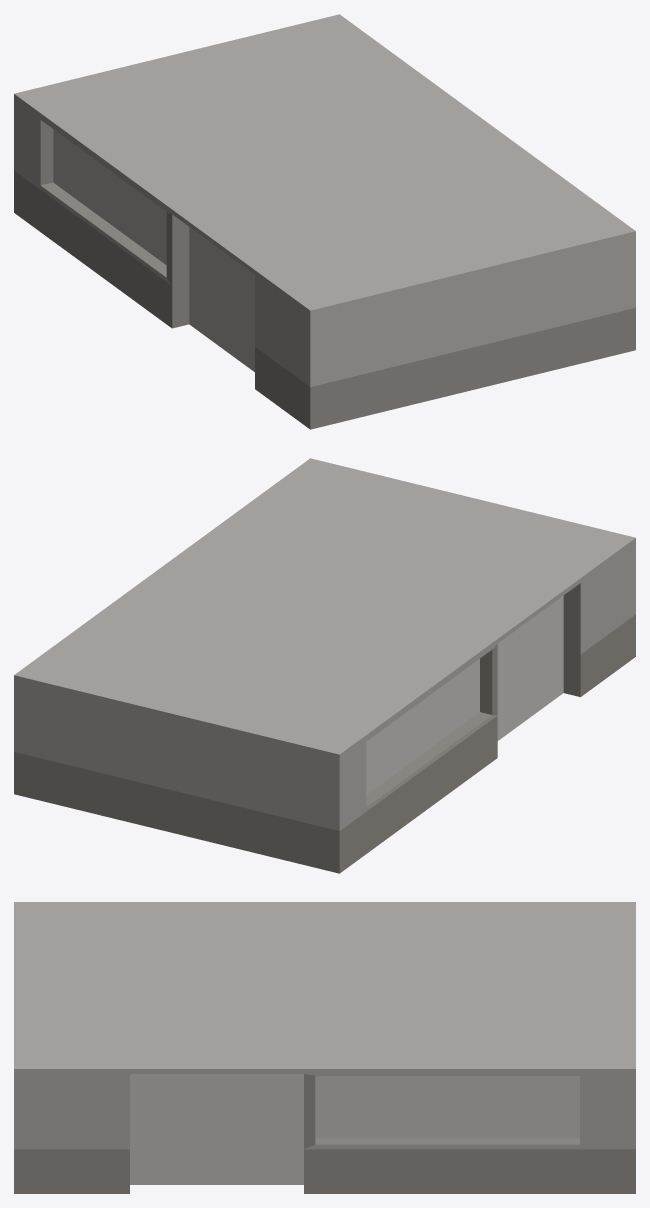
Rendered from SM_Env_Base_05.fbx.
3 renders of one model, top to bottom at view 1: azimuth 30°, elevation 25°; view 2: azimuth 150°, elevation 25°; view 3: azimuth 270°, elevation 25°, orthographic. The views are drawn at different scales.
Parts seen in each view (by area): view 1: SM_Env_Base_05; view 2: SM_Env_Base_05; view 3: SM_Env_Base_05.
Boxes of the visible parts, <box> form: SM_Env_Base_05: <box>14,14,635,429</box>; SM_Env_Base_05: <box>14,458,635,873</box>; SM_Env_Base_05: <box>14,902,635,1193</box>.
Size of the model in its own units: 717 by 250 by 1130.
Materials: 1 (1 with a texture image).
